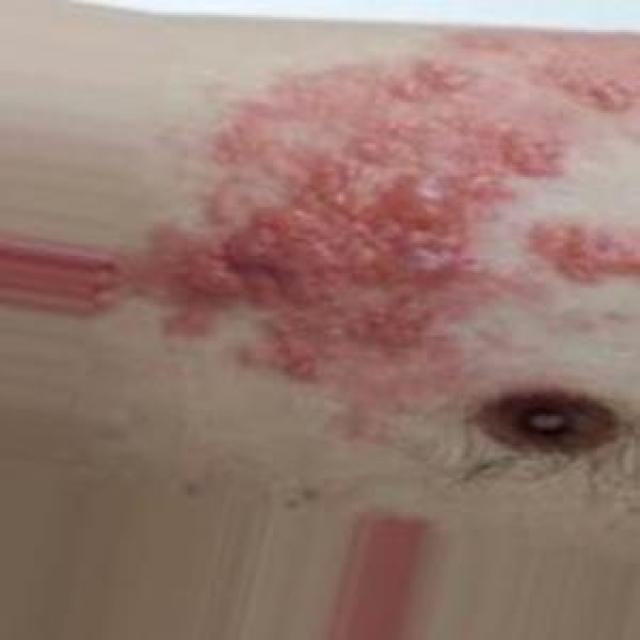Shingles: (173, 61, 565, 373), (526, 214, 640, 287), (540, 59, 640, 106)
